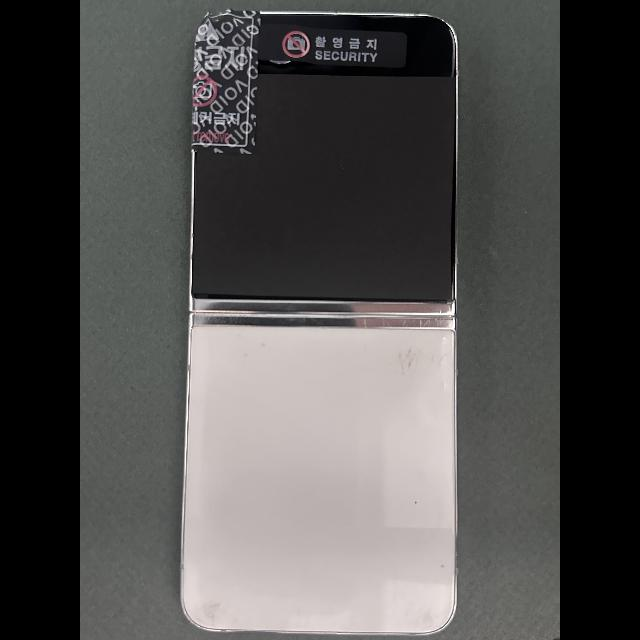phone: (181, 12, 458, 636)
sticker: (191, 8, 260, 154), (259, 24, 407, 67)
